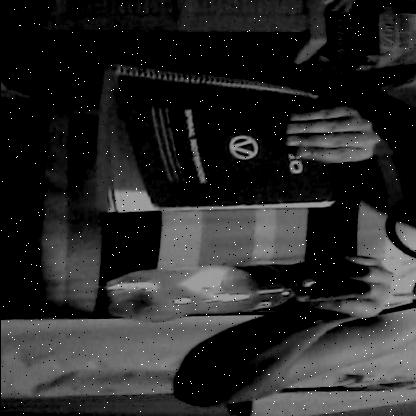Plastic Bottle: (92, 254, 335, 328)
